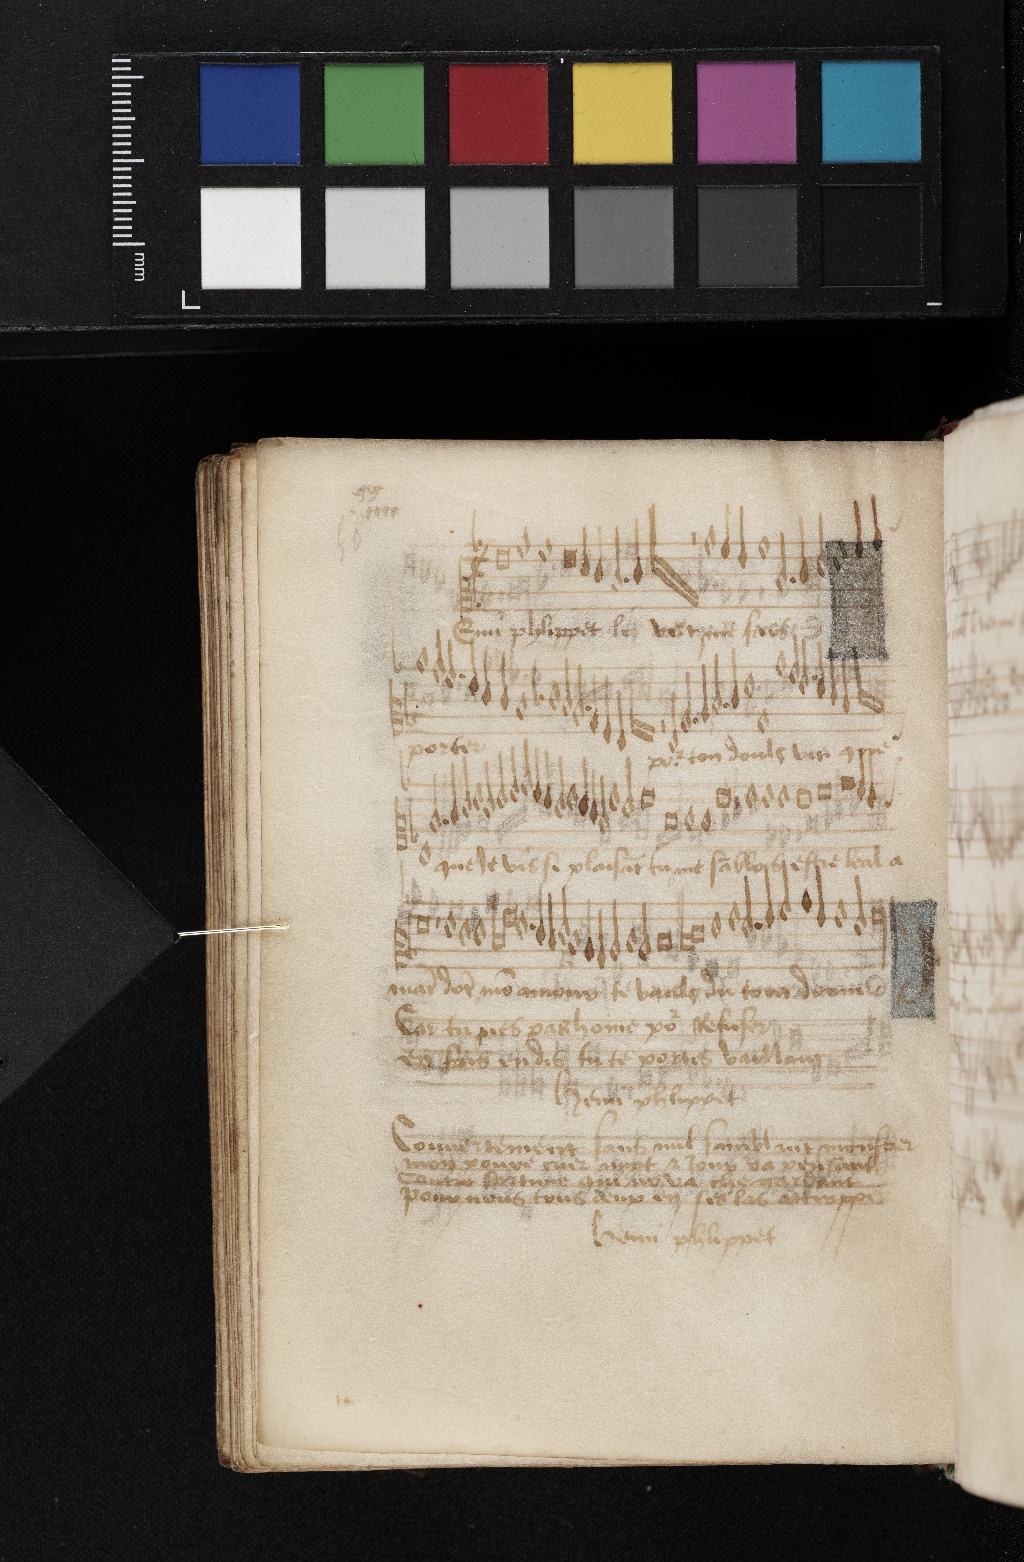breve_4: (811, 775, 839, 808)
breve_5: (634, 779, 663, 814), (790, 780, 817, 816), (709, 779, 736, 812)
breve_8: (658, 803, 685, 835)
c clef_9: (391, 802, 410, 860)
colored breve_3: (837, 768, 859, 799)
custos_6: (874, 779, 901, 823)
flat_10: (405, 794, 421, 849)
flat_3: (393, 742, 416, 798)
minim rest: (731, 777, 746, 846)
minim_4: (505, 743, 521, 809)
minim_5: (493, 748, 510, 814), (552, 753, 567, 823)
minim_6: (619, 754, 638, 825), (479, 768, 499, 819), (458, 754, 473, 822)
minim_8: (424, 771, 443, 838), (595, 772, 610, 838)
point: (435, 812, 454, 834)
semibreve_5: (561, 775, 582, 817), (774, 779, 794, 816), (758, 775, 775, 812), (469, 777, 485, 814), (607, 779, 623, 816), (744, 776, 757, 810)
semibreve_8: (681, 800, 699, 838), (698, 804, 715, 838)
semiminim_3: (517, 737, 537, 802)
semiminim_4: (529, 745, 545, 810), (853, 748, 867, 811)
semiminim_5: (541, 746, 555, 816), (865, 748, 880, 816)
semiminim_6: (577, 754, 592, 826)
semiminim_7: (586, 767, 601, 831), (434, 804, 461, 831)
